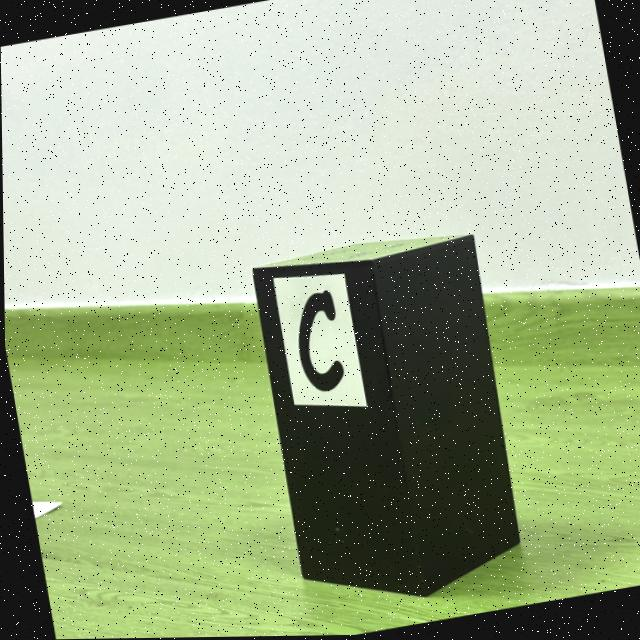C: (297, 292, 343, 393)
